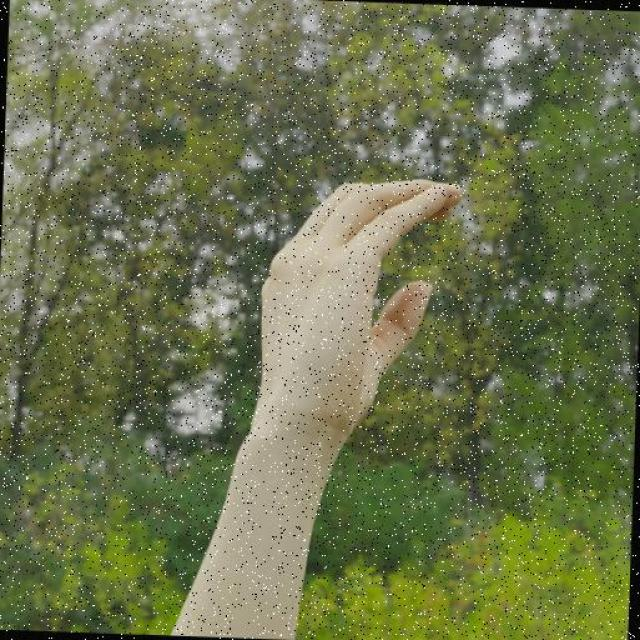C: (255, 171, 467, 454)
